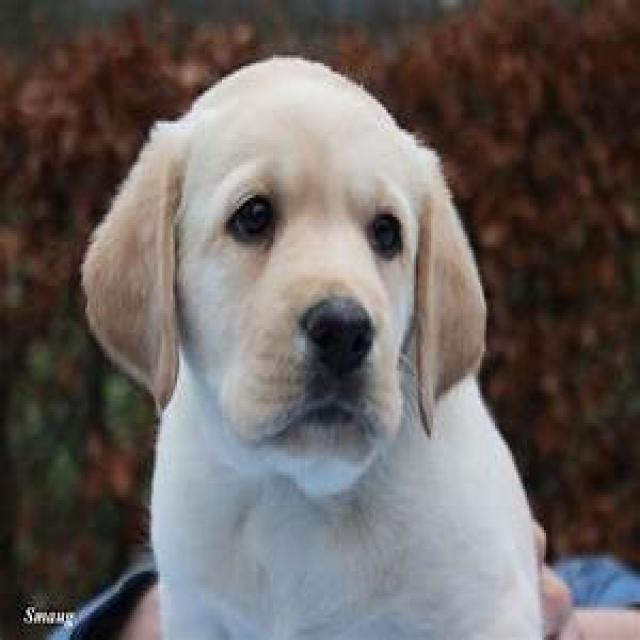dog: (79, 58, 627, 640)
